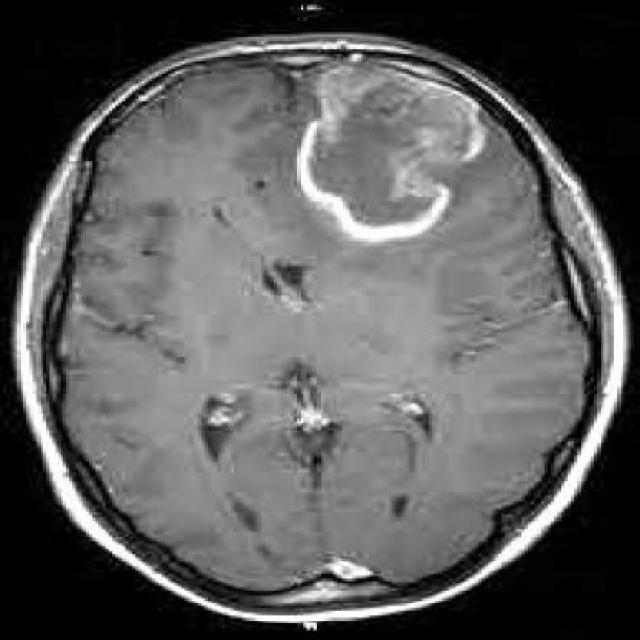Brain-Tumor: (285, 49, 494, 262)
